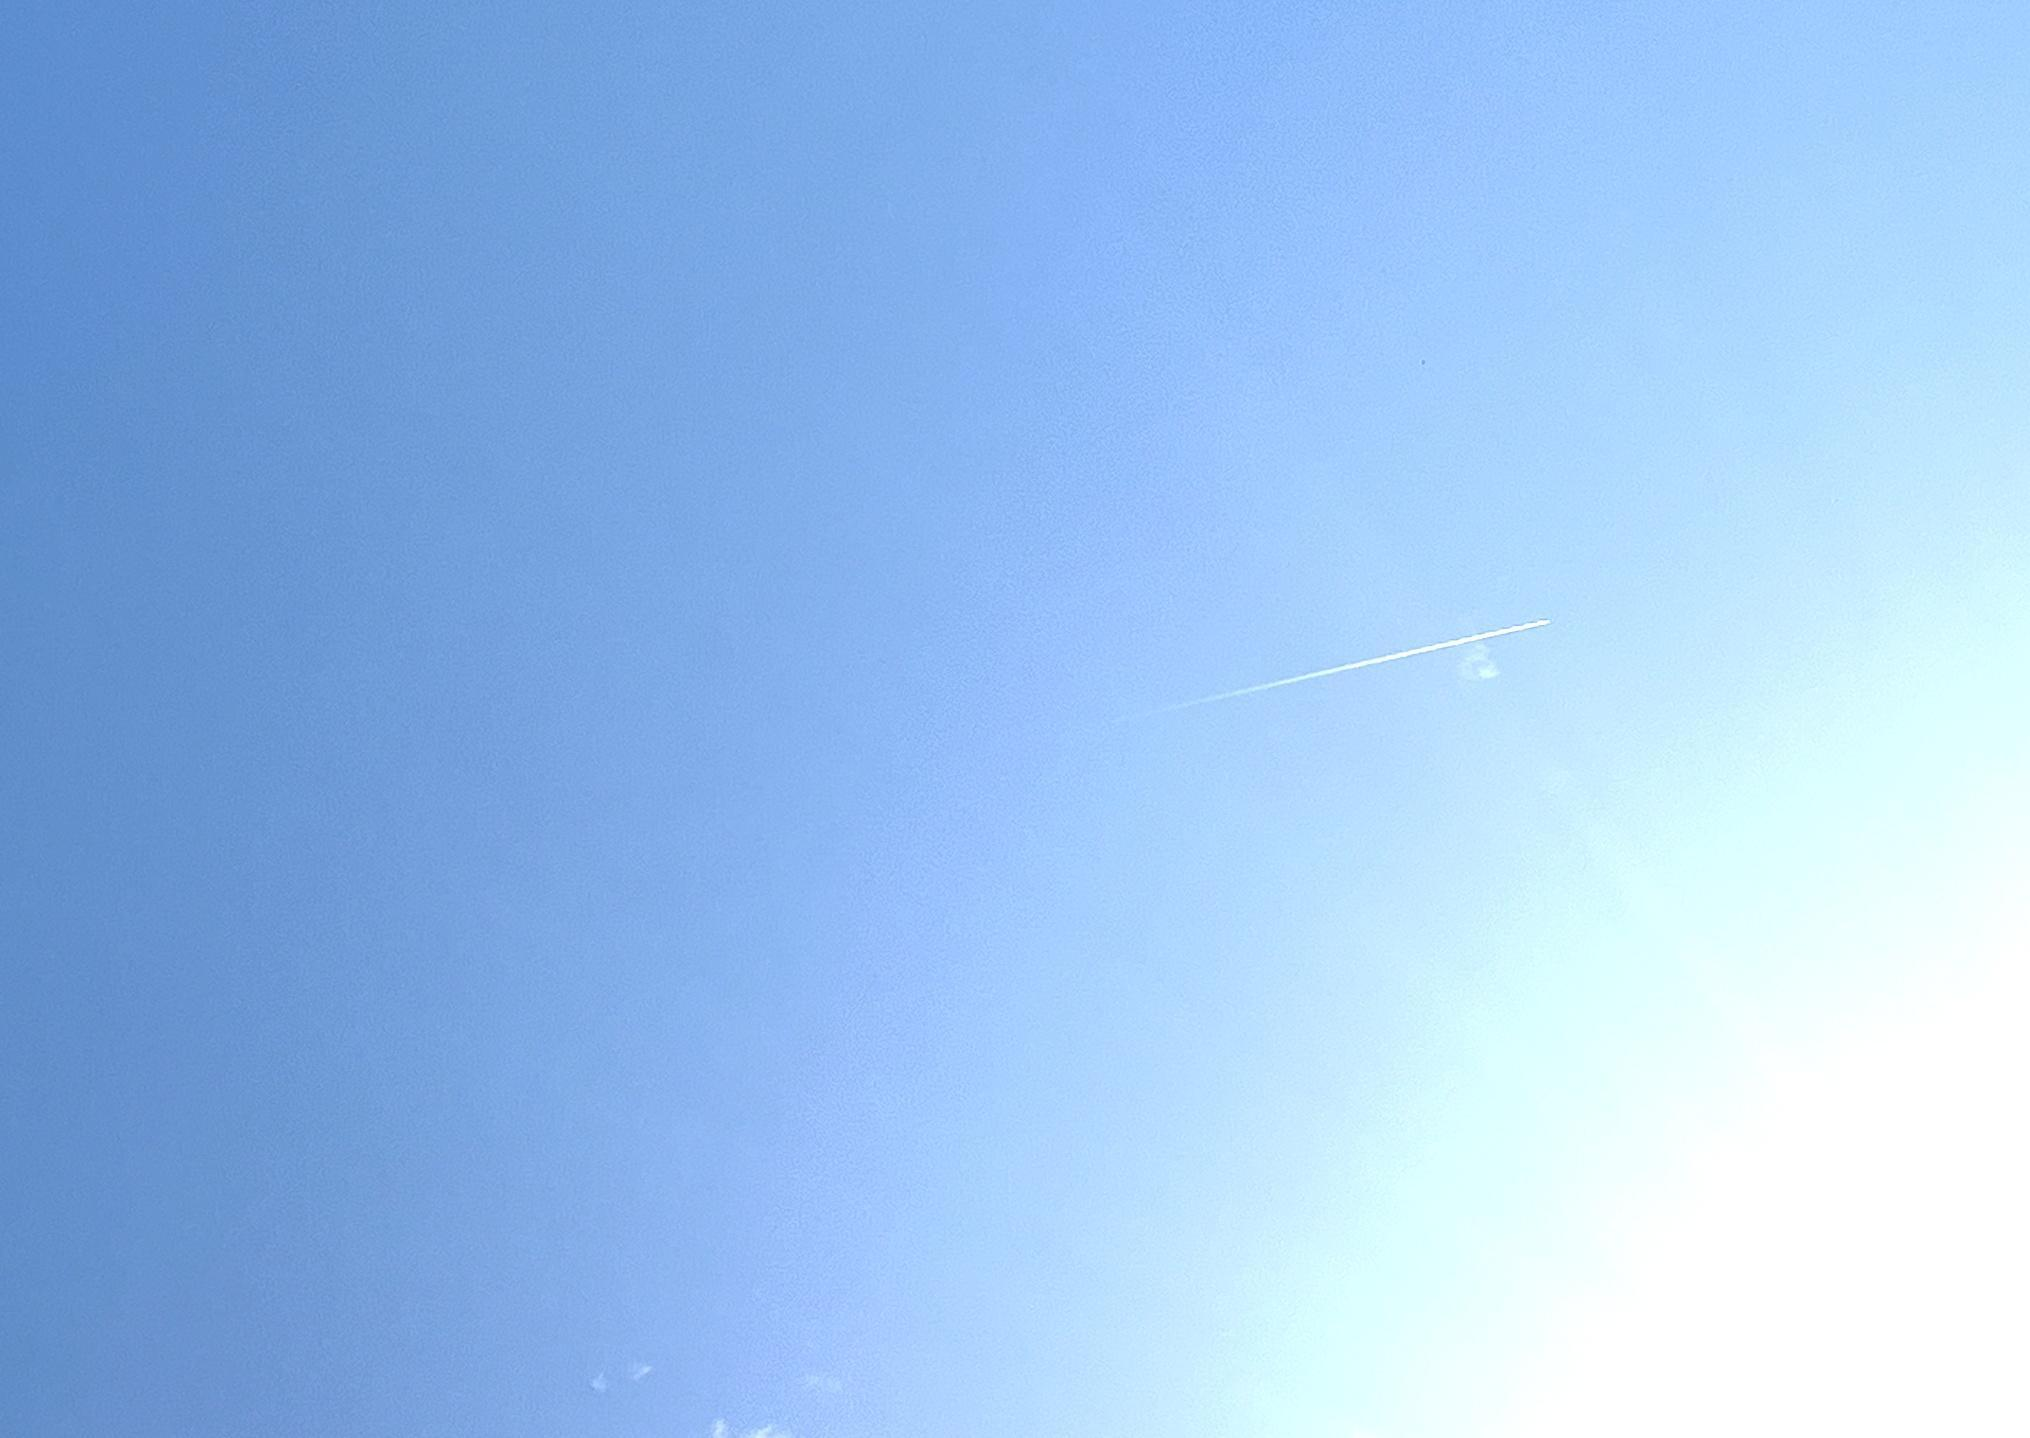Plane: (1174, 609, 1570, 717)
